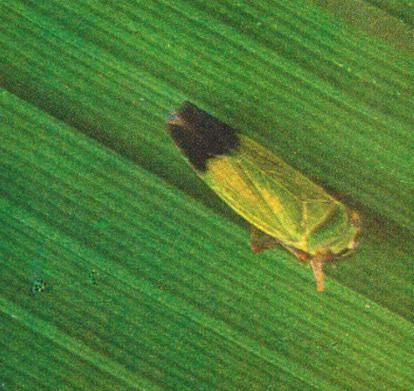Cicadellidae: (164, 100, 362, 264)
